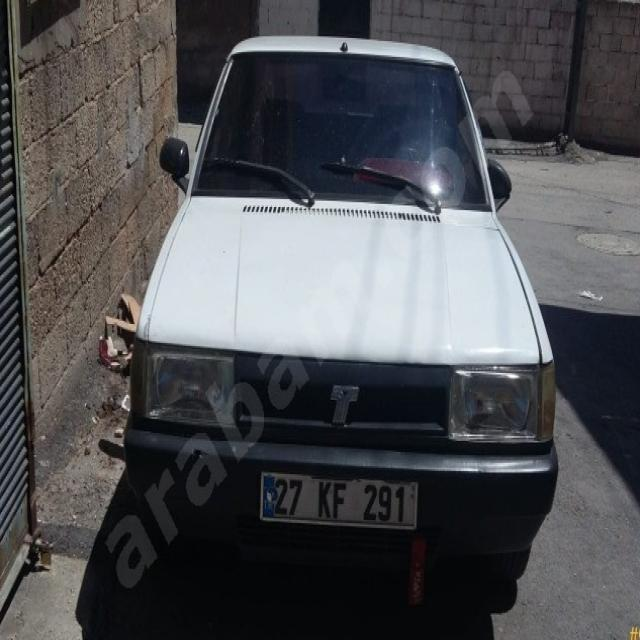license_plate: (260, 472, 418, 530)
